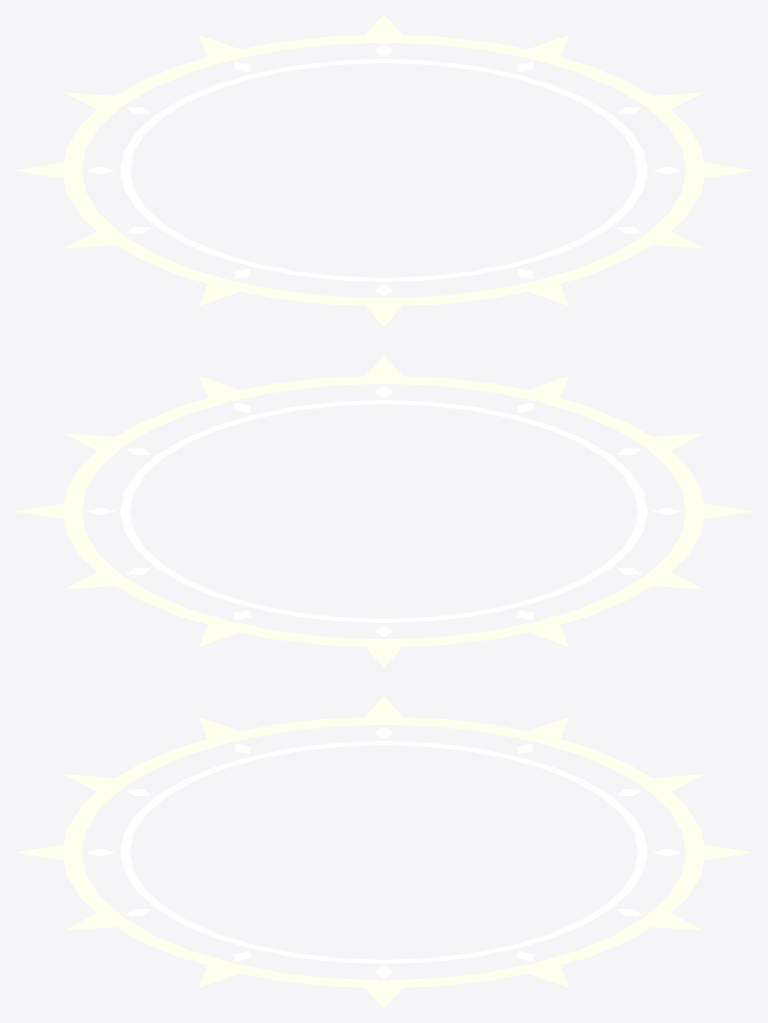
The model's file is retribution_ring.glb.
3 renders of one model, top to bottom at view 1: azimuth 30°, elevation 25°; view 2: azimuth 150°, elevation 25°; view 3: azimuth 270°, elevation 25°, orthographic.
Parts seen in each view (by area): view 1: retribution_ring; view 2: retribution_ring; view 3: retribution_ring.
Boxes of the visible parts, x1,y1,x2,y2 form: retribution_ring: (14, 14, 753, 326); retribution_ring: (14, 355, 753, 667); retribution_ring: (14, 696, 753, 1008).
Bounding box in the file's own units: 2.3 × 0 × 2.3.
